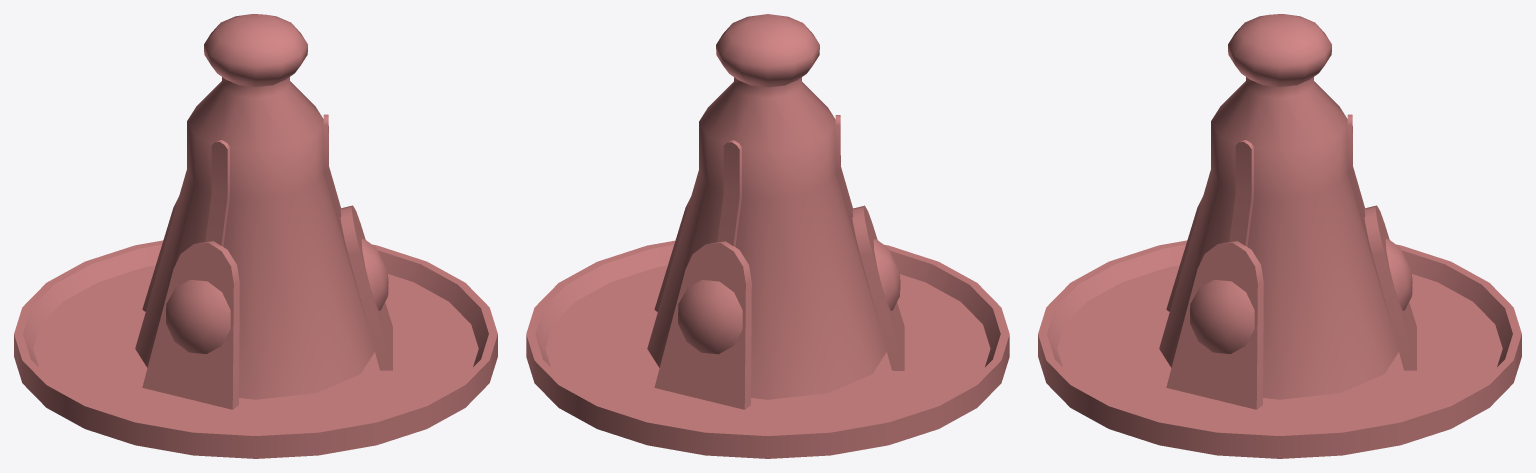
The model's file is checkpoint.dae.
The picture shows the model from 3 angles, left to right: view 1: azimuth 30°, elevation 25°; view 2: azimuth 150°, elevation 25°; view 3: azimuth 270°, elevation 25°; orthographic projection.
Parts seen in each view (by area): view 1: checkpoint; view 2: checkpoint; view 3: checkpoint.
Boxes of the visible parts, bbox=[...] form: checkpoint: bbox=[14, 14, 497, 458]; checkpoint: bbox=[526, 14, 1009, 458]; checkpoint: bbox=[1038, 14, 1521, 458].
Bounding box in the file's own units: 1.52 × 1.52 × 1.16.
